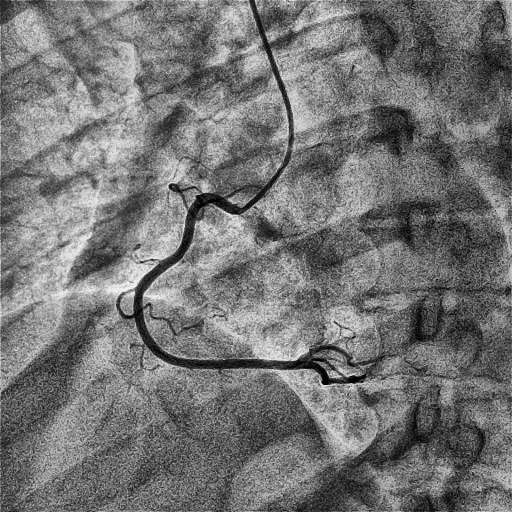pda: (303, 361, 366, 386)
rca: (134, 193, 306, 370)
